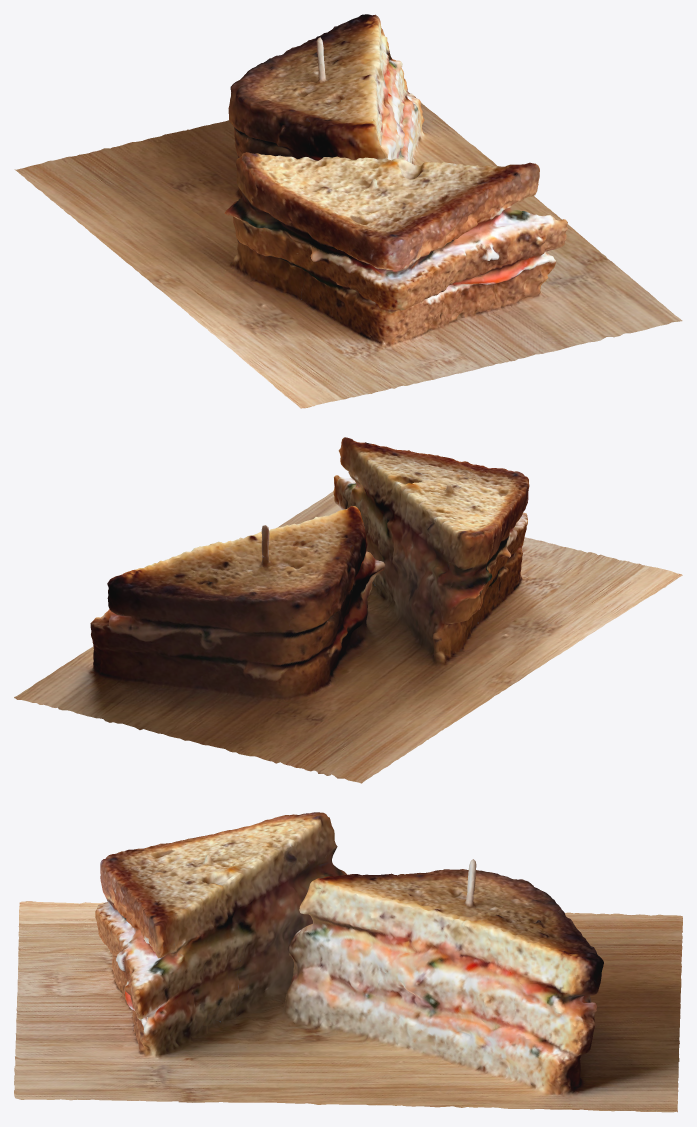
File: sandwich.glb
3 renders of one model, top to bottom at view 1: azimuth 30°, elevation 25°; view 2: azimuth 150°, elevation 25°; view 3: azimuth 270°, elevation 25°, orthographic. The views are drawn at different scales.
Parts seen in each view (by area): view 1: Object_4; view 2: Object_4; view 3: Object_4.
Part boxes in pixels (x1,y1,x2,y2): Object_4: (14, 14, 682, 408); Object_4: (14, 437, 682, 783); Object_4: (14, 812, 682, 1112).
Bounding box in the file's own units: 0.5603 × 0.2085 × 0.7598.
1 material, 1 textured.
